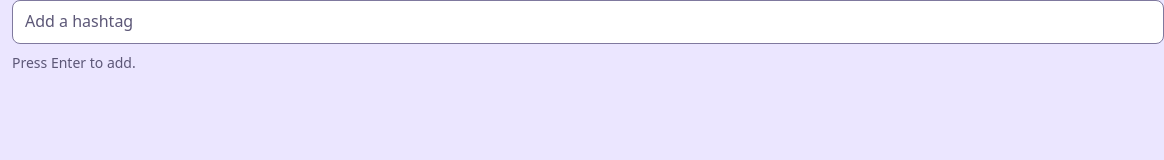
it: HashtagInput › says what is allowed when a tag is invalid
Type "bad!" into the field.
click(588, 22); type("bad!")  # box [21,7,1155,37]
Then press Enter
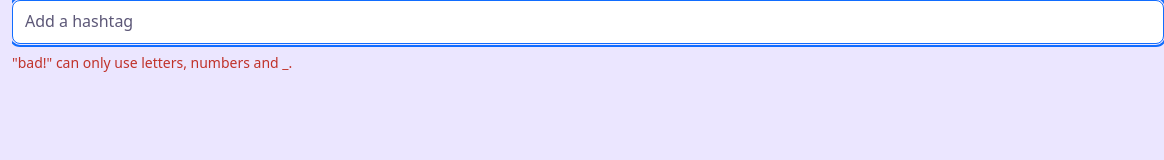
Check: the message shows "can only use letters, numbers and _", box [12,53,292,72]
